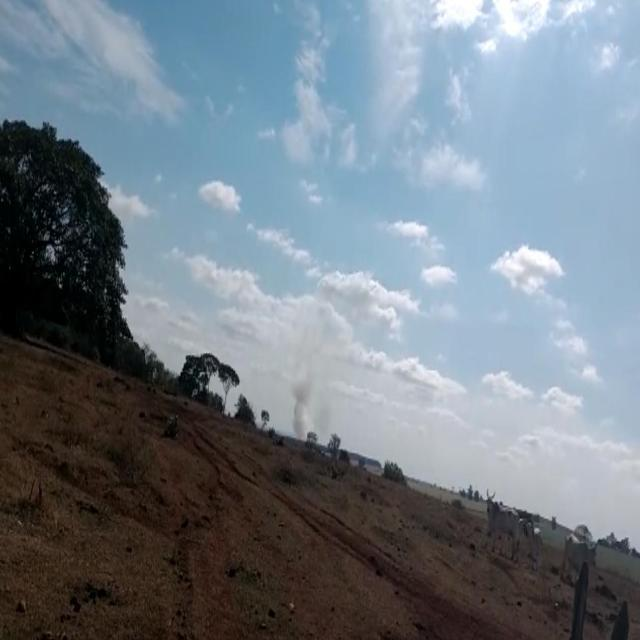Smoke: (288, 363, 321, 437)
